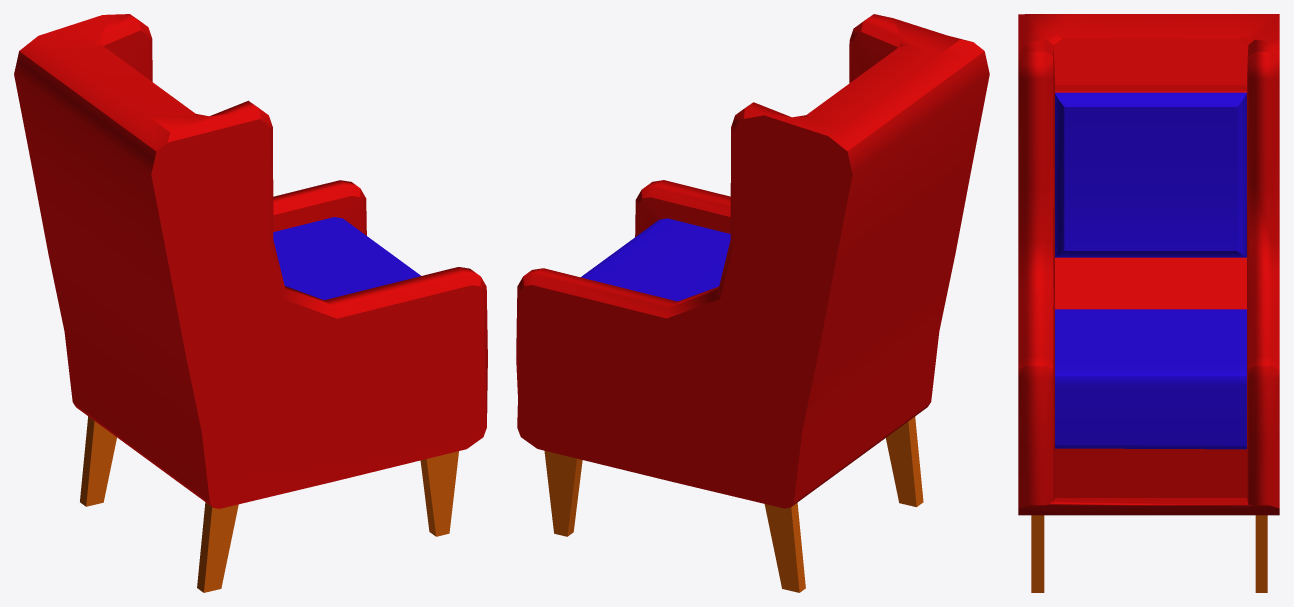
The model's file is Chair_Vertex_color_Example.fbx.
3 renders of one model, left to right at view 1: azimuth 30°, elevation 25°; view 2: azimuth 150°, elevation 25°; view 3: azimuth 270°, elevation 25°, orthographic. The views are drawn at different scales.
Parts seen in each view (by area): view 1: WingChair; view 2: WingChair; view 3: WingChair.
Part boxes in pixels (x1,y1,x2,y2): WingChair: [14, 14, 487, 592]; WingChair: [516, 14, 989, 592]; WingChair: [1018, 14, 1279, 592].
Bounding box in the file's own units: 223 × 298 × 156.
